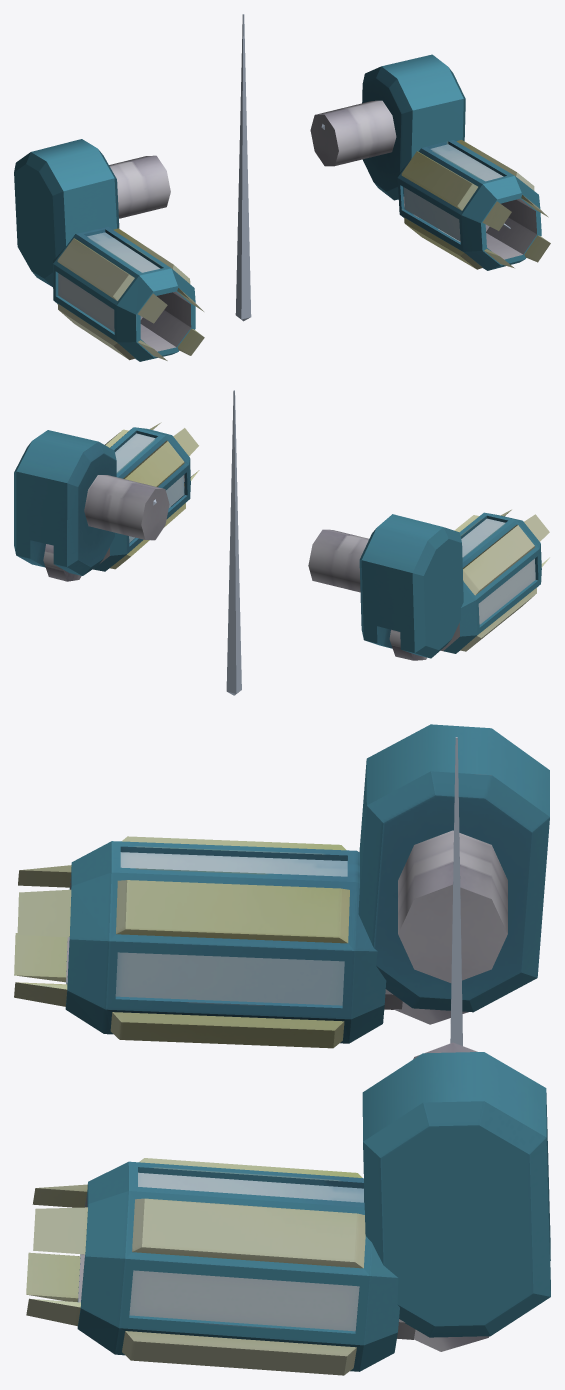
File: player_arm2.obj
3 views of the same model, one above another, from view 1: azimuth 30°, elevation 25°; view 2: azimuth 150°, elevation 25°; view 3: azimuth 270°, elevation 25° (orthographic). The views are drawn at different scales.
Visible parts, largest first — view 1: Object009, Object010, Object007, Object008, Object005, Object006, Bone001; view 2: Object007, Object008, Object009, Object010, Object005, Bone001, Object006; view 3: Object009, Object010, Object008, Object007, Object006, Bone001.
Part boxes in pixels (x1,y1,x2,y2): Object009: [53, 226, 204, 361]; Object010: [397, 139, 550, 270]; Object007: [14, 139, 119, 286]; Object008: [362, 54, 465, 200]; Object005: [310, 100, 396, 166]; Object006: [109, 155, 170, 218]; Bone001: [235, 14, 251, 321]; Object007: [359, 514, 463, 658]; Object008: [14, 430, 116, 575]; Object009: [389, 509, 549, 660]; Object010: [43, 422, 199, 581]; Object005: [84, 475, 169, 540]; Bone001: [226, 390, 241, 695]; Object006: [308, 529, 368, 592]; Object009: [14, 836, 468, 1048]; Object010: [26, 1158, 489, 1375]; Object008: [362, 1052, 550, 1337]; Object007: [358, 724, 549, 1012]; Object006: [398, 830, 507, 982]; Bone001: [450, 737, 462, 1045].
Size of the model in its own units: 175 by 120 by 98.61.
2 materials, 1 textured.
